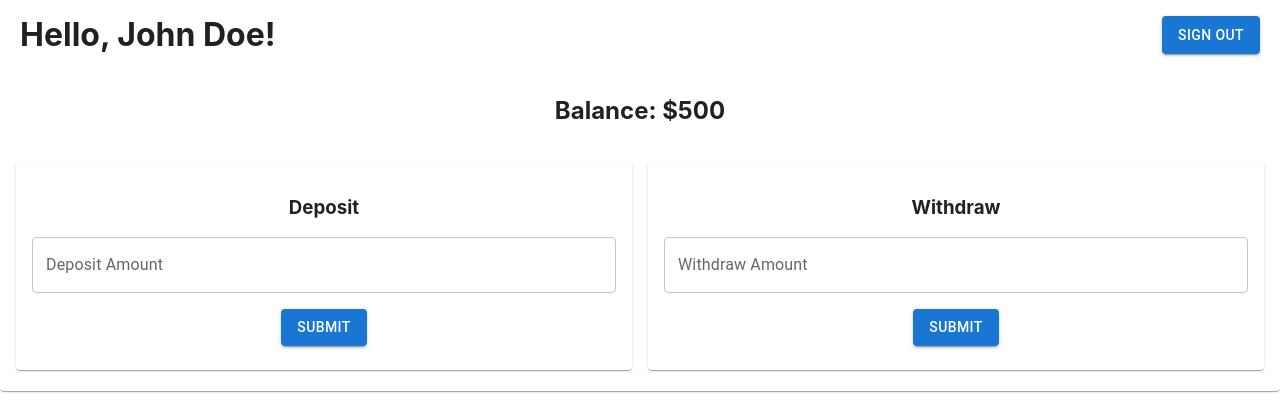
AccountDashboard Component › handles deposit submission and updates balance
Type "100" into the number field labelled "Deposit Amount".
click(324, 265); type("100")  # box top-left (32, 237), bottom-right (616, 293)
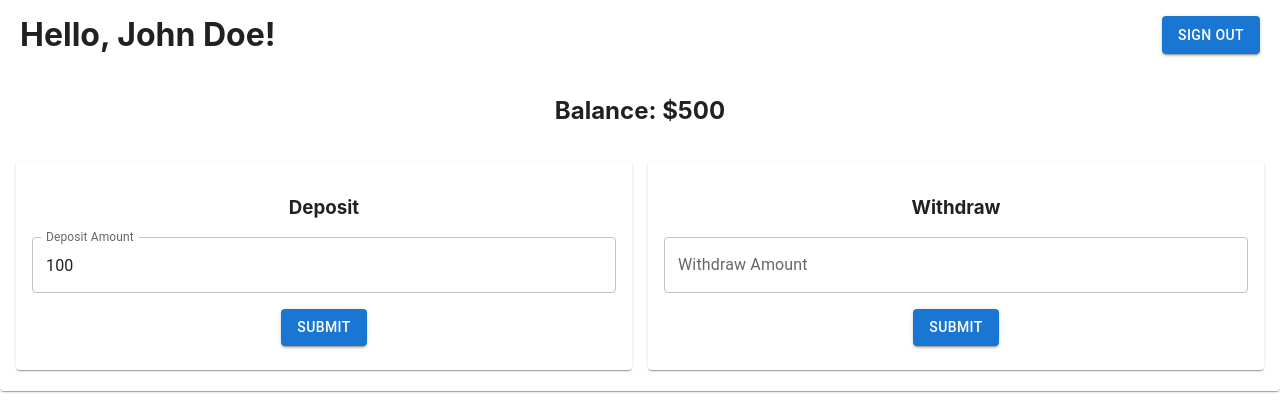
Click the button "Submit" below "Deposit Amount".
click(324, 327)  # box top-left (281, 309), bottom-right (367, 346)
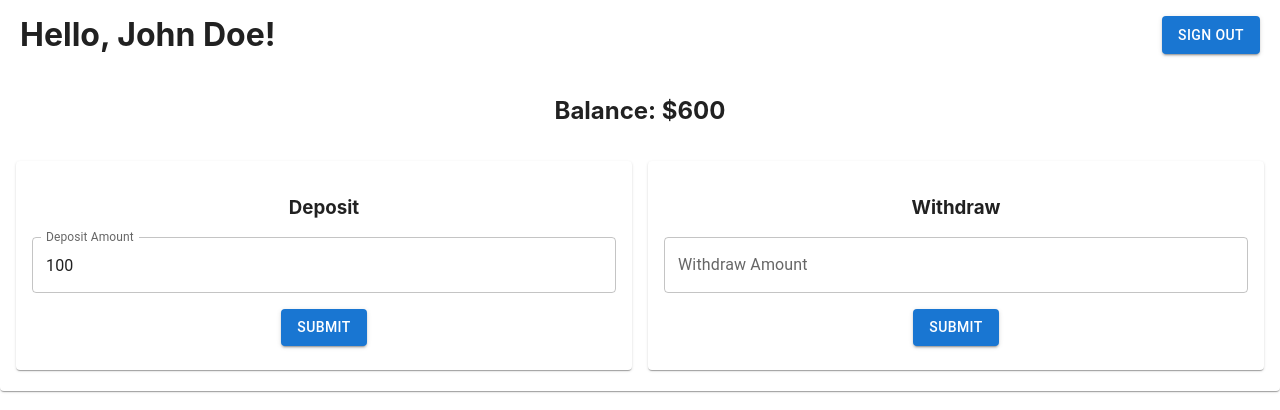
Expected: the heading "Balance: $600" is shown, top-left (554, 96), bottom-right (726, 125)
